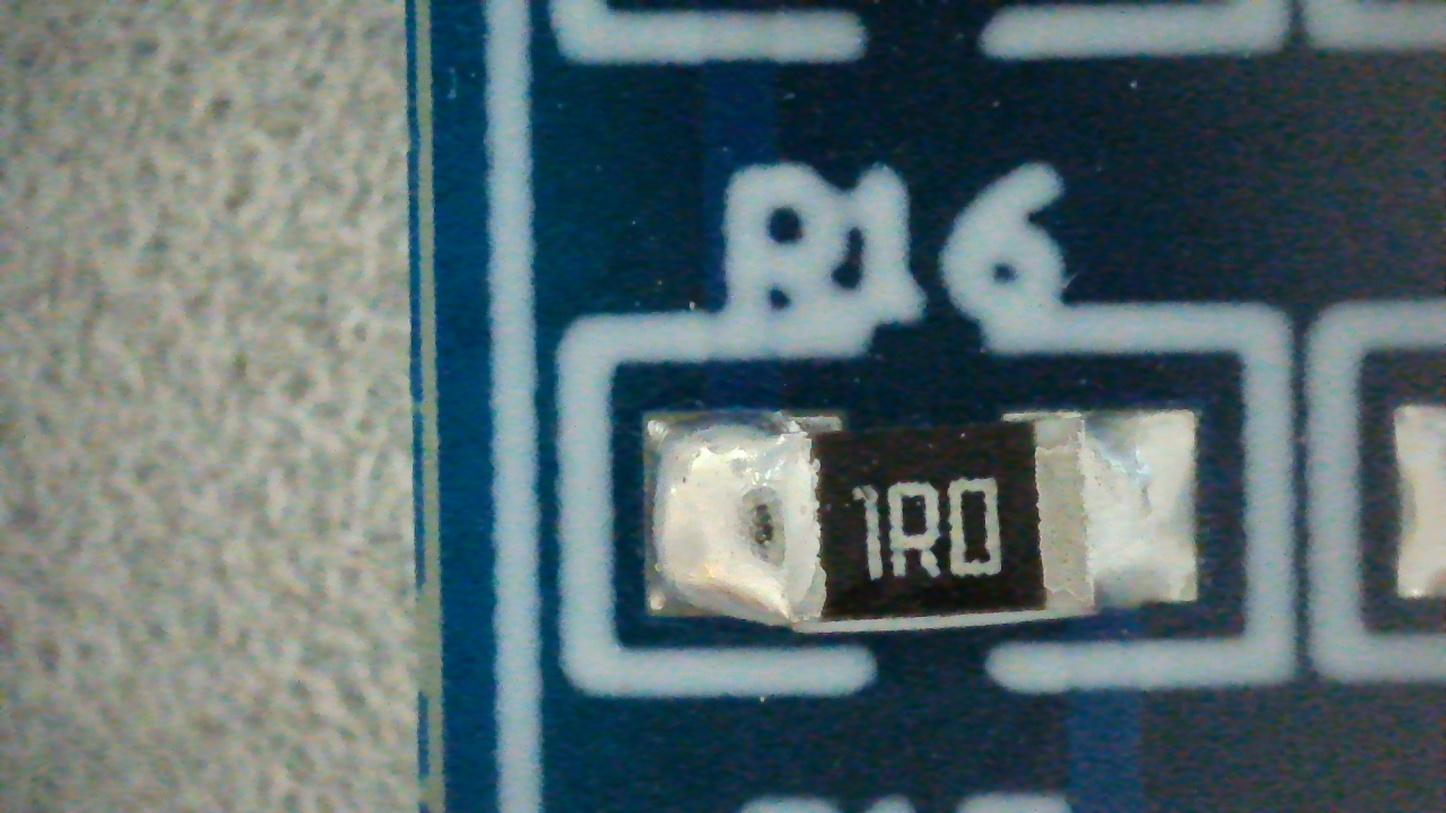NG: (644, 412, 1197, 633)
